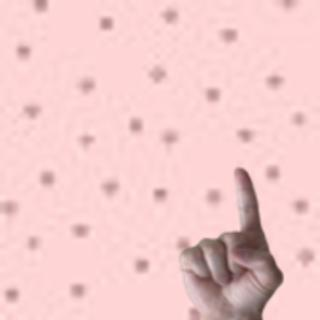IRRITATED: (172, 164, 286, 317)
